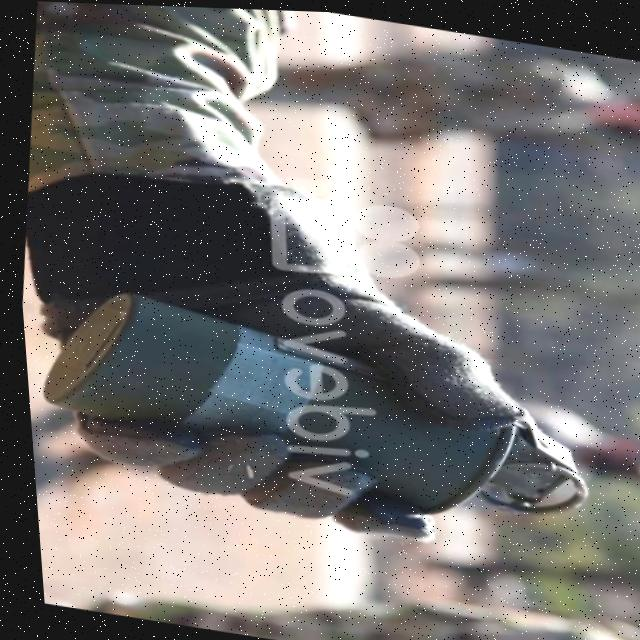grenade: (14, 238, 612, 585)
